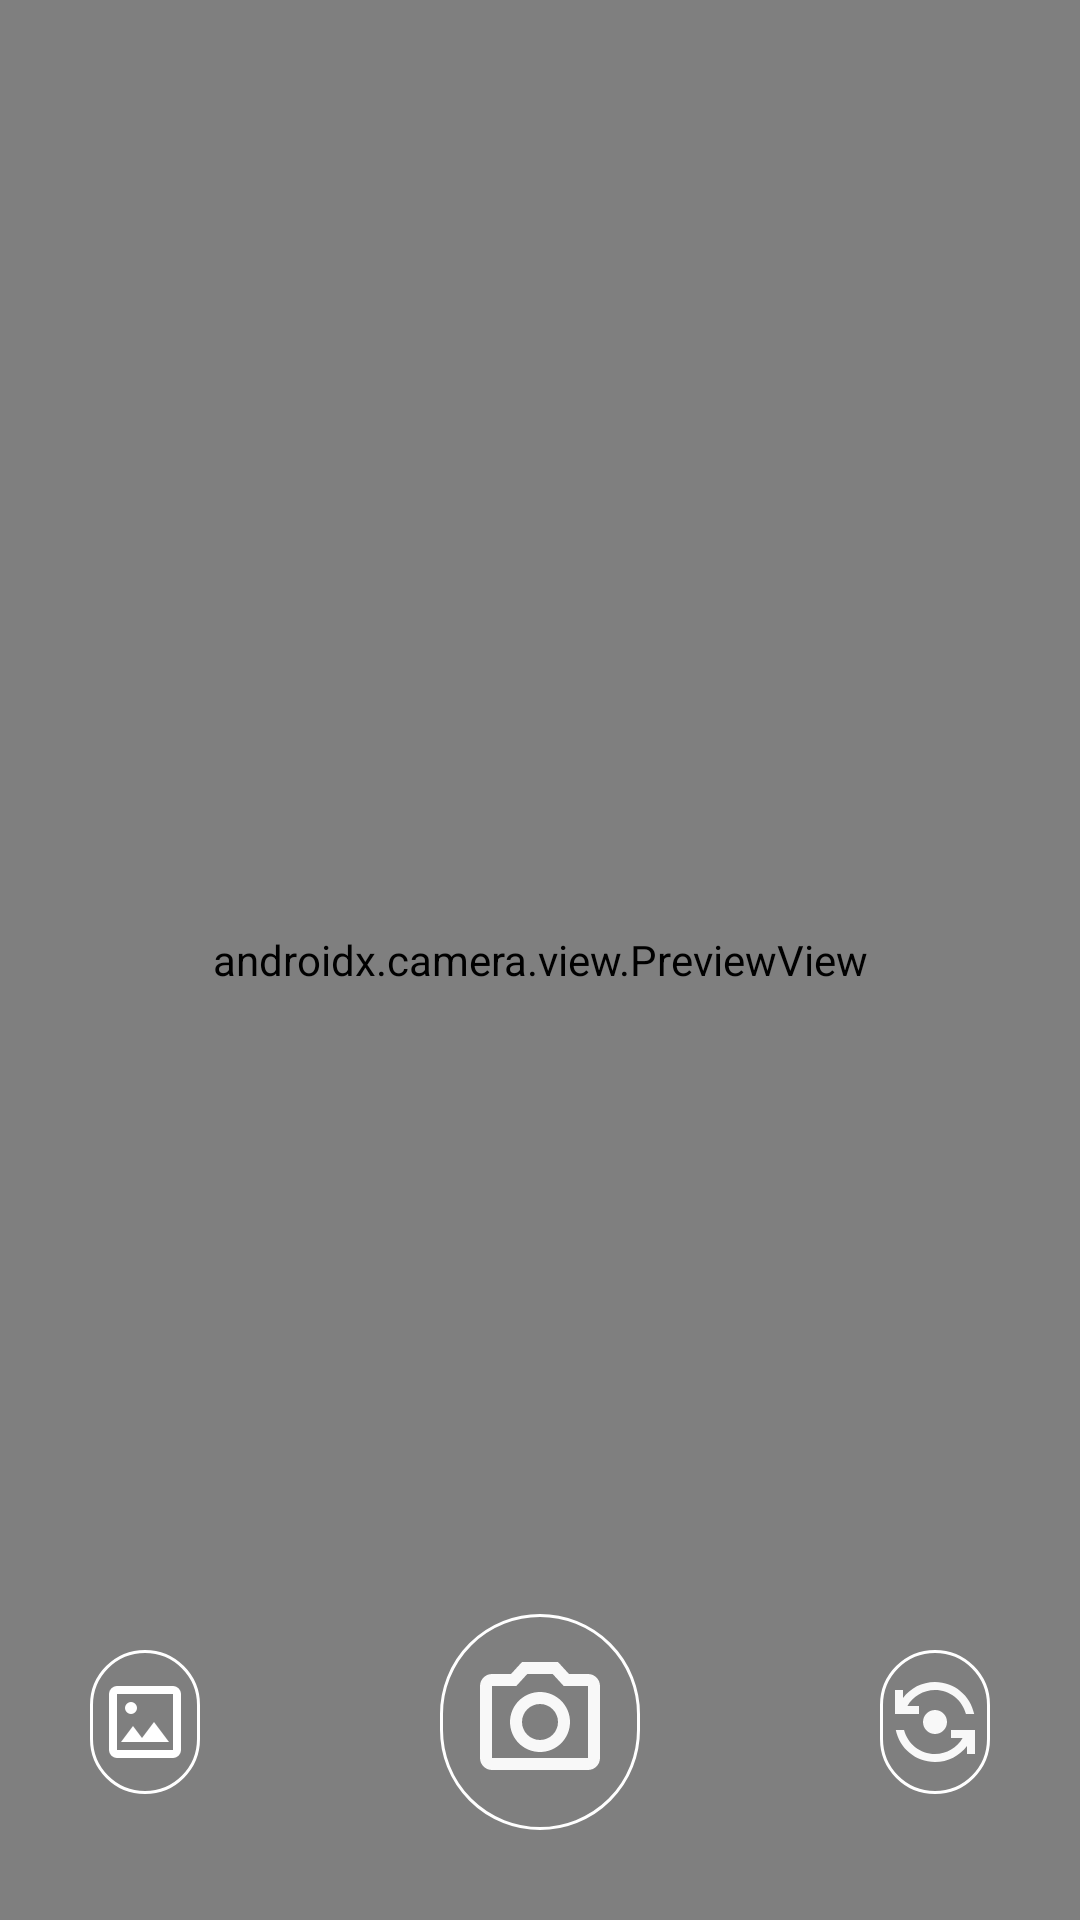

Locate icon controls on the screen. Image size 1080×1920, boxes as (x1, y1, x2, y2).
Capture: (440, 1614, 640, 1830)
flip camera: (880, 1650, 990, 1794)
Gallery: (90, 1650, 200, 1794)
